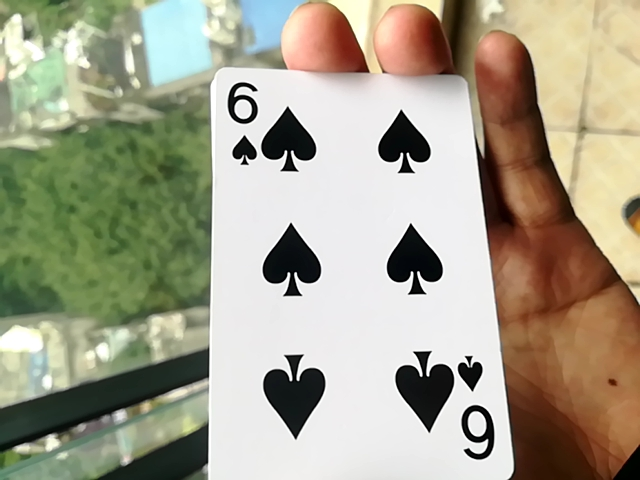ht 6: (195, 50, 510, 476)
